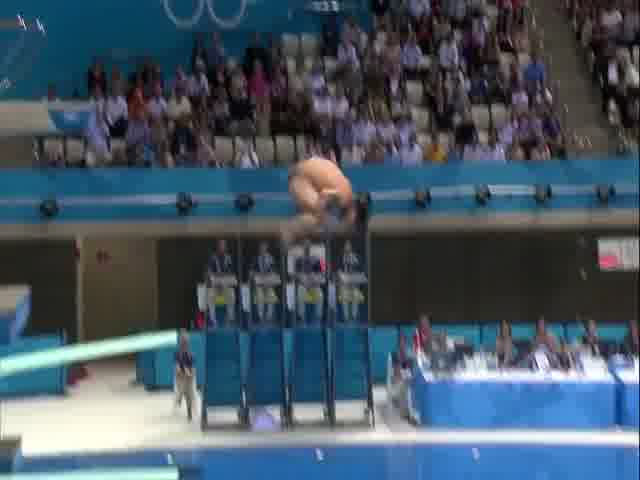diver: (277, 156, 370, 256)
